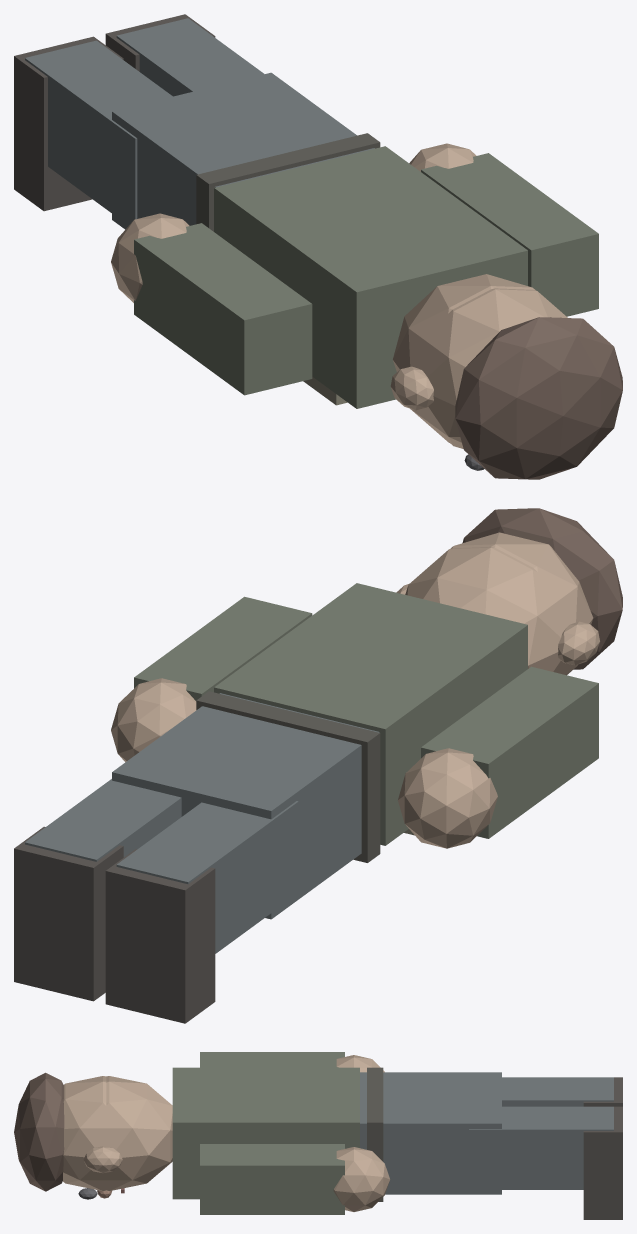
File: outfit_female_tactical_vest.glb
3 renders of one model, top to bottom at view 1: azimuth 30°, elevation 25°; view 2: azimuth 150°, elevation 25°; view 3: azimuth 270°, elevation 25°, orthographic. The views are drawn at different scales.
Parts seen in each view (by area): view 1: part_00, part_19, part_06, part_01, part_04, part_12, part_02, part_10, part_05, part_03, part_18, part_07 (+3 smaller); view 2: part_00, part_01, part_05, part_06, part_04, part_11, part_03, part_12, part_07, part_10, part_19, part_18 (+3 smaller); view 3: part_00, part_01, part_12, part_10, part_03, part_02, part_19, part_11, part_04, part_13, part_06, part_18 (+3 smaller).
Boxes of the visible parts, box(x1,y1,x2,y2) form: part_00: box(214, 146, 527, 408); part_19: box(455, 317, 622, 479); part_06: box(134, 223, 312, 395); part_01: box(112, 72, 374, 229); part_04: box(25, 40, 172, 225); part_12: box(421, 153, 598, 316); part_02: box(413, 288, 567, 448); part_10: box(116, 18, 264, 96); part_05: box(14, 36, 123, 211); part_03: box(393, 274, 535, 442); part_18: box(196, 133, 380, 231); part_07: box(111, 213, 189, 302); part_00: box(214, 583, 527, 845); part_01: box(112, 693, 379, 919); part_05: box(105, 849, 215, 1023); part_06: box(421, 666, 598, 838); part_04: box(116, 801, 298, 953); part_11: box(14, 826, 123, 1001); part_03: box(405, 546, 565, 672); part_12: box(134, 596, 312, 700); part_07: box(398, 748, 497, 848); part_10: box(25, 779, 181, 861); part_19: box(462, 508, 622, 669); part_18: box(196, 691, 380, 862); part_00: box(172, 1067, 359, 1199); part_01: box(360, 1072, 501, 1194); part_12: box(200, 1144, 344, 1214); part_10: box(469, 1106, 613, 1189); part_03: box(86, 1076, 172, 1191); part_02: box(63, 1076, 126, 1191); part_19: box(14, 1072, 64, 1191); part_11: box(583, 1106, 622, 1219); part_04: box(502, 1077, 613, 1106); part_13: box(333, 1147, 390, 1211); part_06: box(200, 1052, 344, 1067); part_18: box(367, 1067, 383, 1201).
Size of the model in its own units: 0.93 by 0.435 by 2.02.
